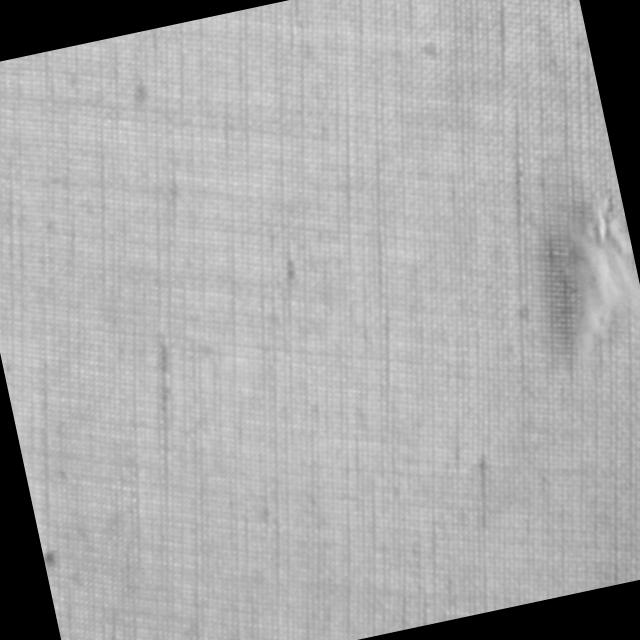objects: (537, 186, 640, 355)
